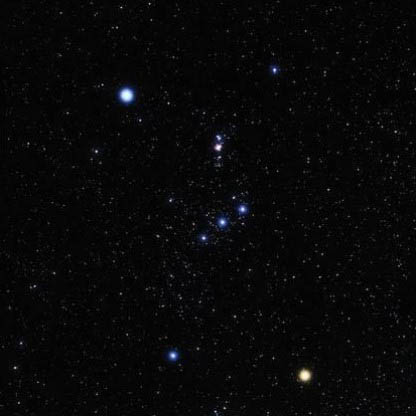Orion: (110, 82, 144, 111), (283, 362, 315, 386), (161, 343, 183, 370), (233, 198, 254, 222), (193, 226, 210, 252), (262, 64, 285, 83), (214, 207, 228, 235)
